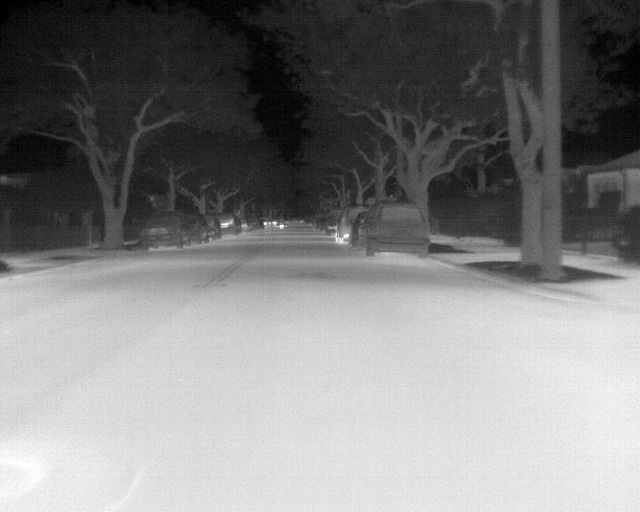vehicle: (356, 202, 429, 253), (136, 206, 196, 252), (210, 209, 246, 238)
